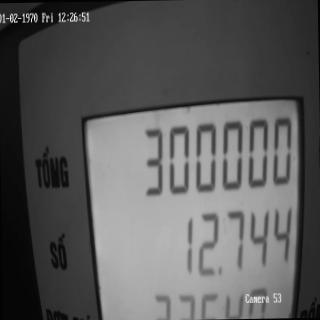screen: (76, 83, 309, 320)
